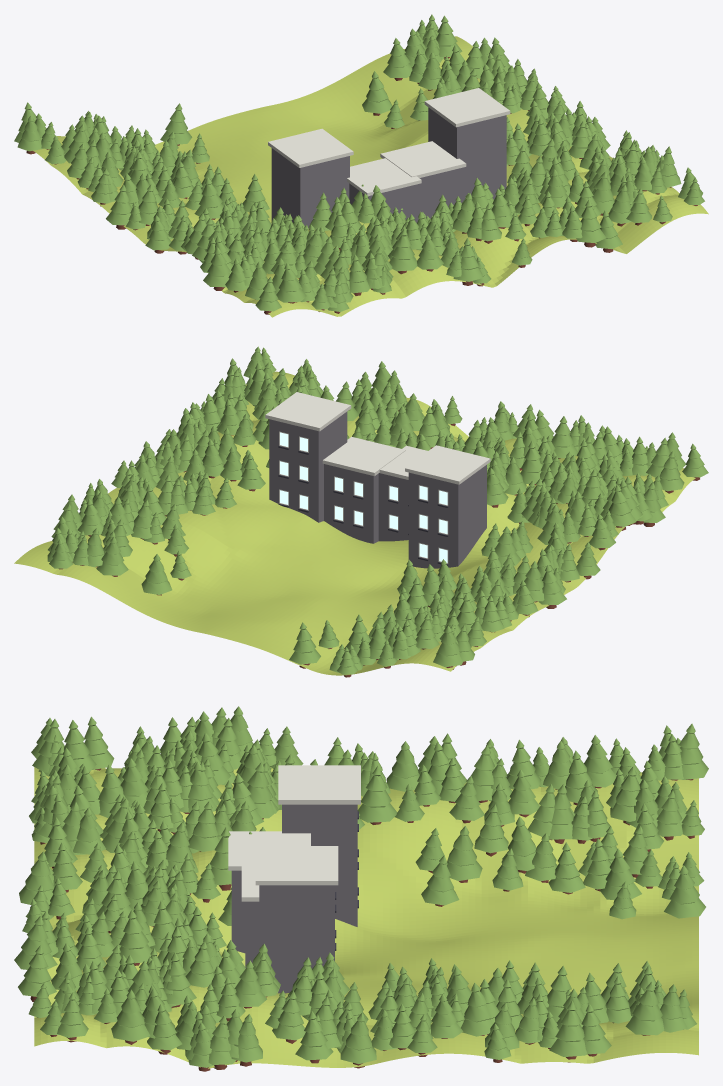
3 renders of one model, top to bottom at view 1: azimuth 30°, elevation 25°; view 2: azimuth 150°, elevation 25°; view 3: azimuth 270°, elevation 25°, orthographic. The views are drawn at different scales.
Visible parts, largest first — view 1: GrassAndTrees, Building.001, Building.003, Building.002, Building; view 2: GrassAndTrees, Building.003, Building.001, Building.002, Building; view 3: GrassAndTrees, Building.001, Building.003, Building, Building.002.
Part boxes in pixels (x1,y1,x2,y2): GrassAndTrees: (14, 14, 708, 317); Building.001: (424, 88, 510, 202); Building.003: (268, 128, 353, 228); Building.002: (380, 141, 466, 220); Building: (347, 158, 421, 222); GrassAndTrees: (14, 346, 708, 677); Building.003: (405, 445, 490, 568); Building.001: (265, 392, 351, 522); Building.002: (322, 436, 405, 543); Building: (378, 445, 427, 541); GrassAndTrees: (14, 706, 708, 1071); Building.001: (255, 846, 338, 993); Building.003: (278, 765, 360, 926); Building: (228, 831, 310, 953); Building.002: (241, 862, 259, 967).
Bounding box in the file's own units: 147 × 42.34 × 146.
1 material, 1 textured.
